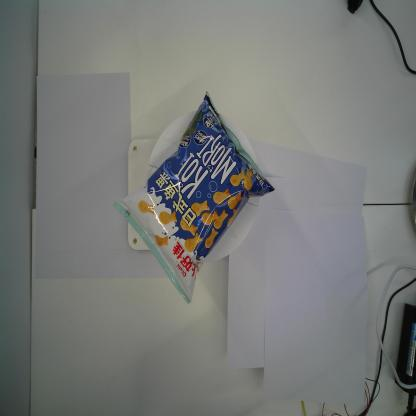Puffed Food: (112, 90, 275, 307)
